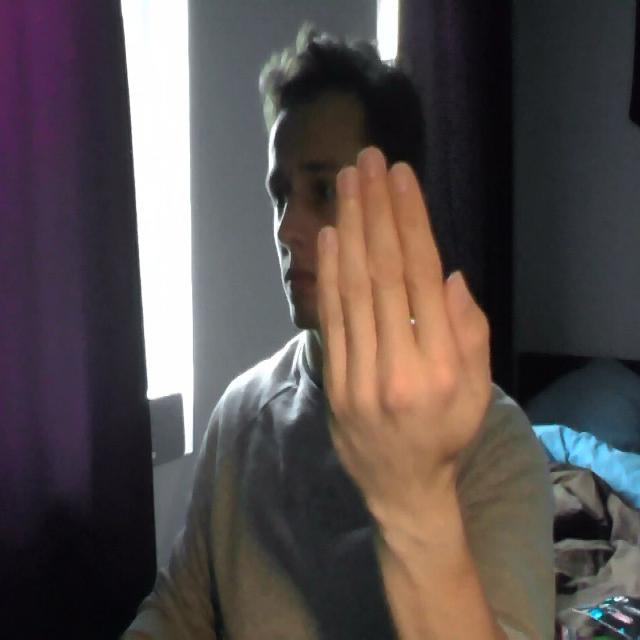forward: (284, 137, 495, 538)
